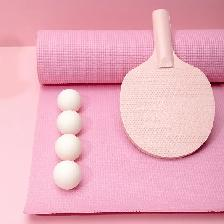WhiteBall: (53, 160, 82, 189), (54, 136, 81, 160), (56, 88, 81, 111), (57, 111, 81, 134)
